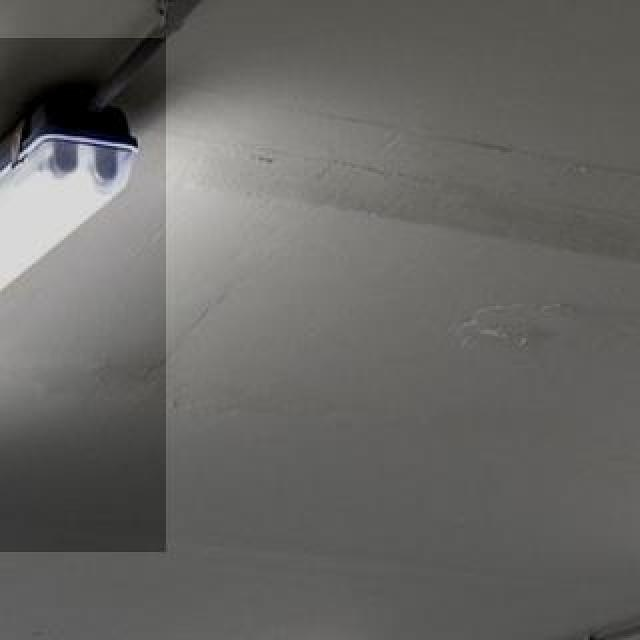fluorescent tube: (0, 78, 156, 504)
